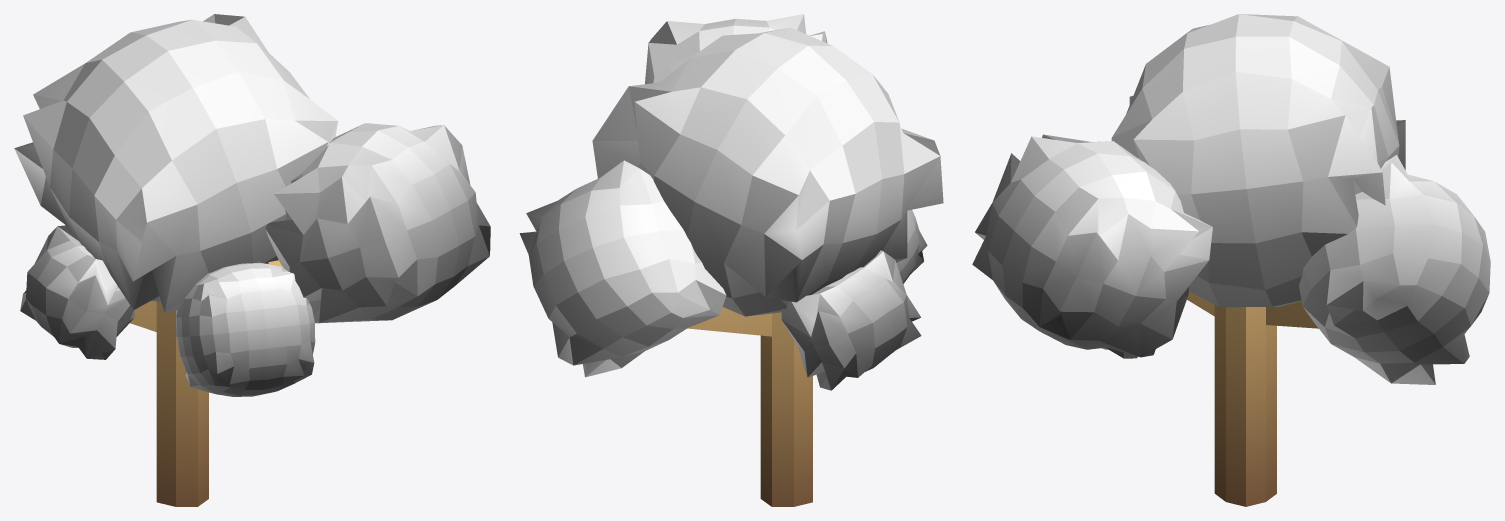
The model's file is TreeBlanc.fbx.
3 views of the same model, side by side, from view 1: azimuth 30°, elevation 25°; view 2: azimuth 150°, elevation 25°; view 3: azimuth 270°, elevation 25° (orthographic). The views are drawn at different scales.
Parts seen in each view (by area): view 1: Cube.002, Cube.003, Cube.004, Cube.005, Cube; view 2: Cube.002, Cube.001, Cube.005, Cube, Cube.003, Cube.004; view 3: Cube.002, Cube.003, Cube.001, Cube.
Boxes of the visible parts, <box> form: Cube.002: <box>14,14,338,312</box>; Cube.003: <box>266,123,490,323</box>; Cube.004: <box>176,262,315,396</box>; Cube.005: <box>20,225,134,359</box>; Cube: <box>130,260,283,506</box>; Cube.002: <box>592,27,943,316</box>; Cube.001: <box>519,160,726,377</box>; Cube.005: <box>781,250,921,390</box>; Cube: <box>687,307,812,506</box>; Cube.003: <box>645,14,827,84</box>; Cube.004: <box>896,209,927,283</box>; Cube.002: <box>1111,14,1405,307</box>; Cube.003: <box>972,134,1212,357</box>; Cube.001: <box>1299,155,1490,384</box>; Cube: <box>1187,291,1318,506</box>.
Size of the model in its own units: 1329 by 1652 by 1643.
Materials: 6 (6 with a texture image).
